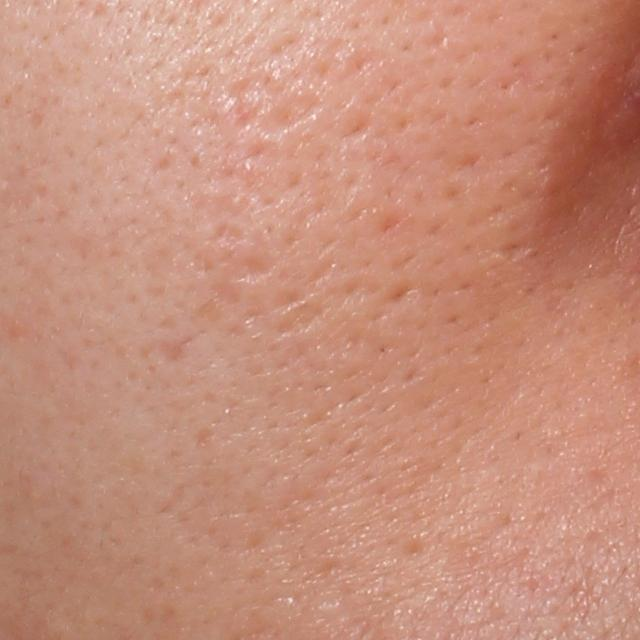atrophic_scar: (214, 248, 275, 306), (258, 87, 324, 139), (221, 74, 260, 129), (148, 336, 192, 370), (208, 218, 249, 246)
